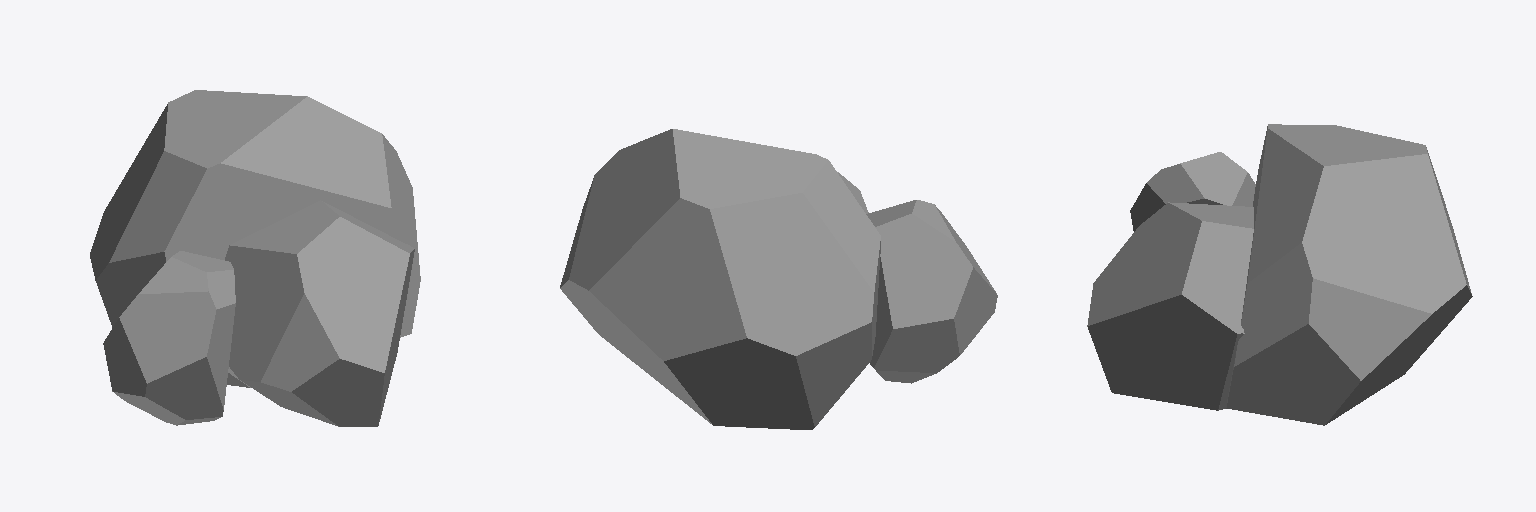
File: rock5.obj
3 renders of one model, left to right at view 1: azimuth 30°, elevation 25°; view 2: azimuth 150°, elevation 25°; view 3: azimuth 270°, elevation 25°, orthographic.
Parts seen in each view (by area): view 1: Rock_Type2_01_mesh_Cube.005; view 2: Rock_Type2_01_mesh_Cube.005; view 3: Rock_Type2_01_mesh_Cube.005.
Part boxes in pixels (bbox=[...]): Rock_Type2_01_mesh_Cube.005: bbox=[90, 90, 420, 426]; Rock_Type2_01_mesh_Cube.005: bbox=[560, 129, 997, 429]; Rock_Type2_01_mesh_Cube.005: bbox=[1087, 124, 1472, 425].
Size of the model in its own units: 1.79 by 1.26 by 1.75.